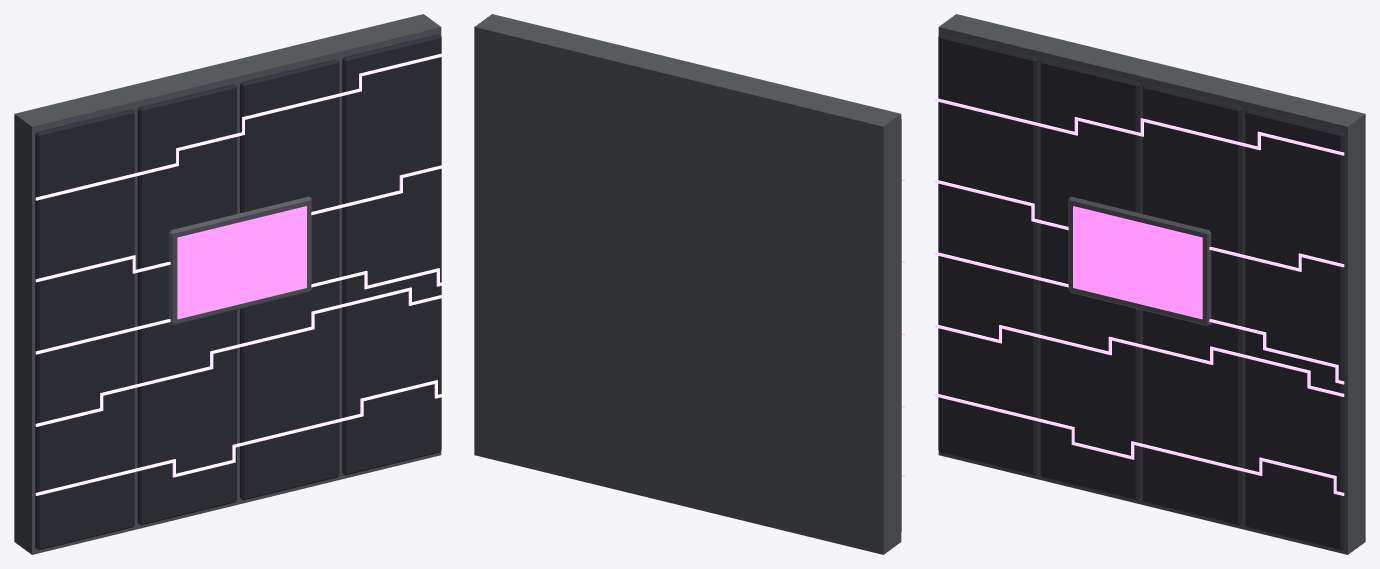
Rendered from wall_an_core2.glb.
The picture shows the model from 3 angles, left to right: view 1: azimuth 30°, elevation 25°; view 2: azimuth 150°, elevation 25°; view 3: azimuth 330°, elevation 25°; orthographic projection.
Parts seen in each view (by area): view 1: wall_an_core2; view 2: wall_an_core2; view 3: wall_an_core2.
Boxes of the visible parts, bbox=[...] form: wall_an_core2: bbox=[14, 14, 445, 554]; wall_an_core2: bbox=[474, 14, 905, 554]; wall_an_core2: bbox=[934, 14, 1365, 554].
Bounding box in the file's own units: 4 × 4 × 0.396.
